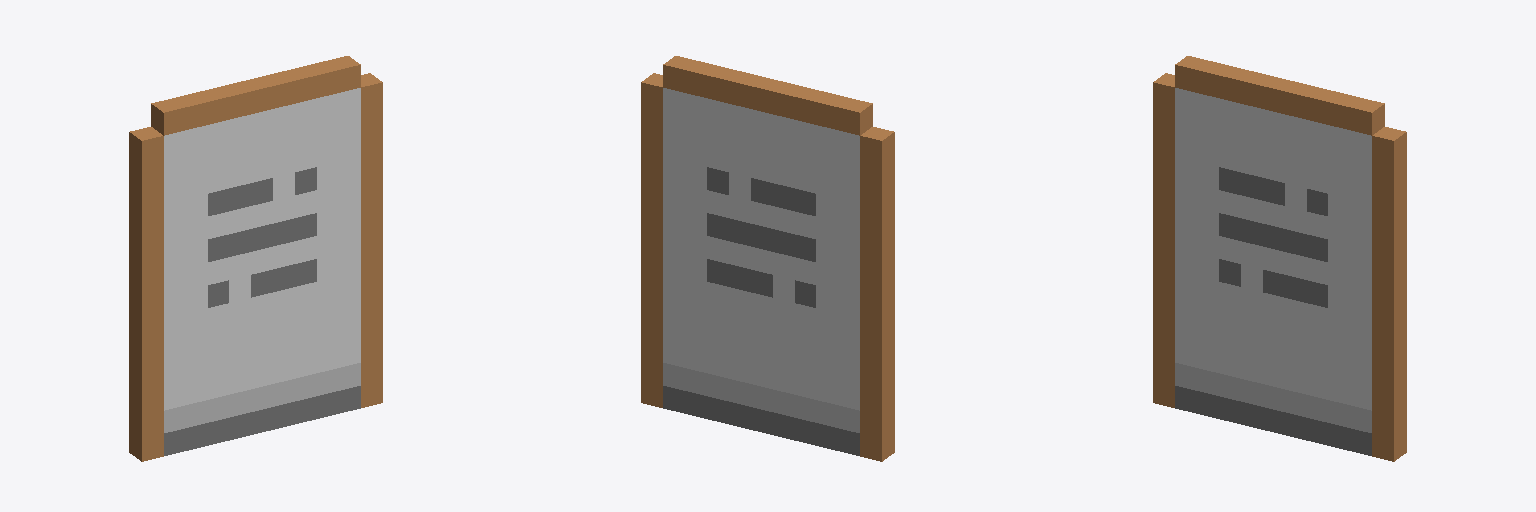
3 renders of one model, left to right at view 1: azimuth 30°, elevation 25°; view 2: azimuth 150°, elevation 25°; view 3: azimuth 330°, elevation 25°, orthographic.
Bounding box in the file's own units: 11 × 15 × 1.
1 materials, 1 textured.